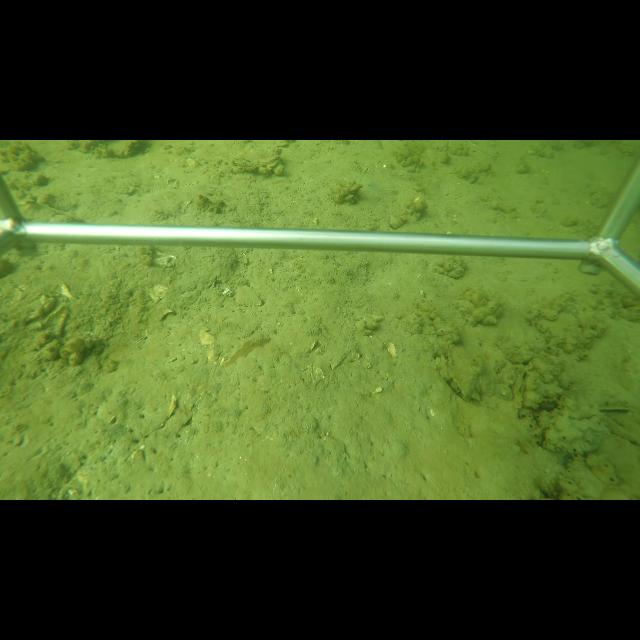Oyster-Closed: (445, 341, 489, 402), (230, 145, 282, 170), (334, 182, 363, 202), (516, 369, 526, 407)
